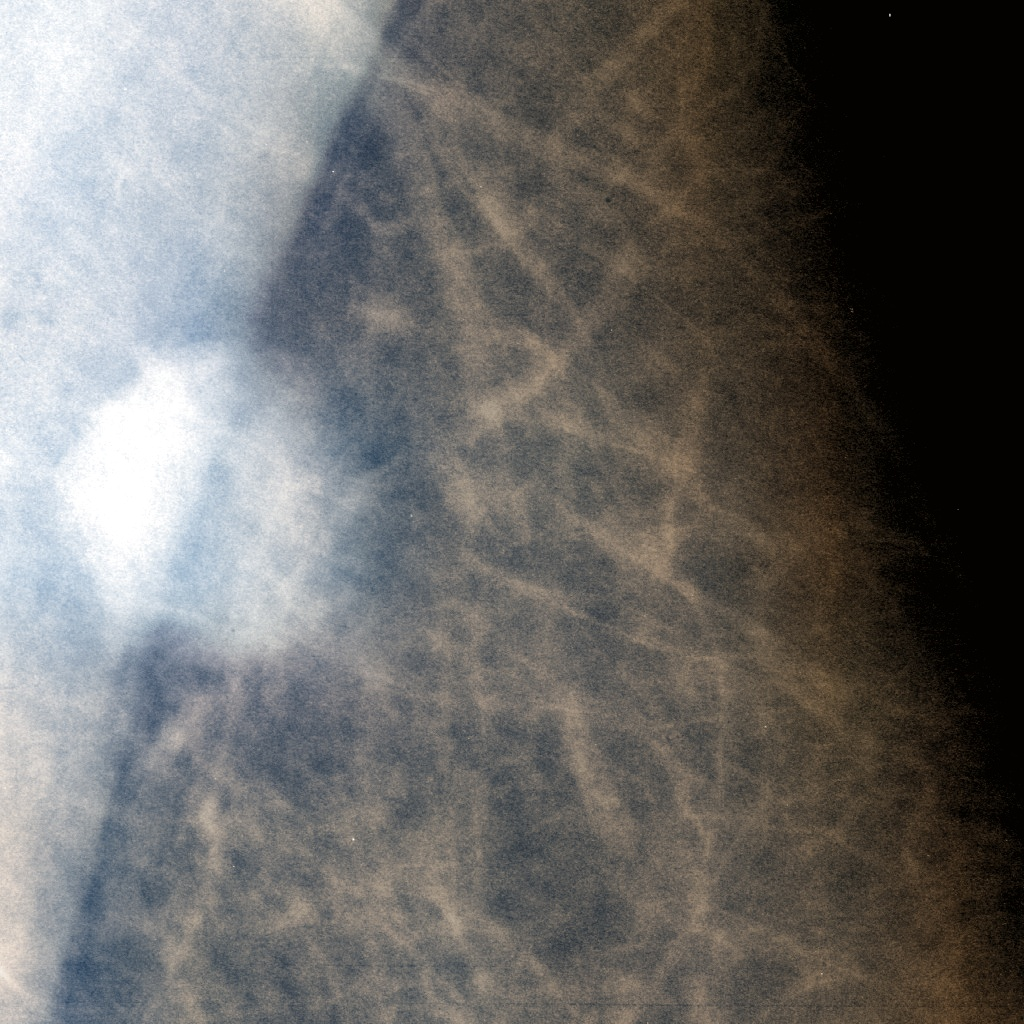tumor: (68, 373, 350, 651)
